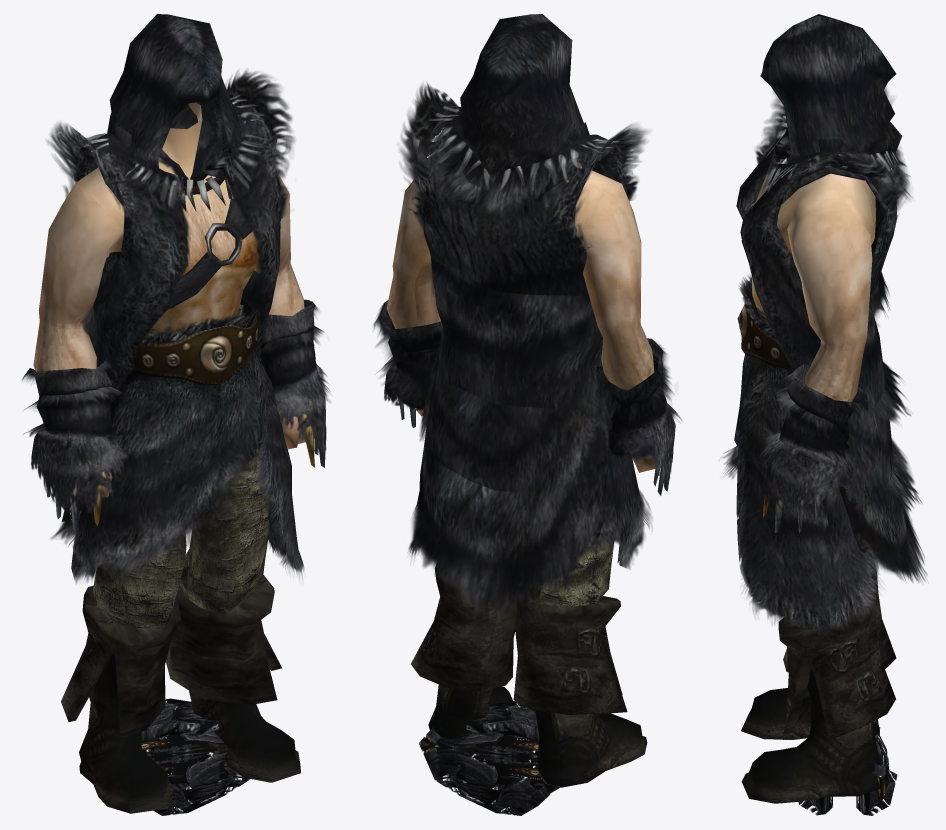
File: FER_BLACKTROLL_ARMOR_01.glb
The picture shows the model from 3 angles, left to right: view 1: azimuth 30°, elevation 25°; view 2: azimuth 150°, elevation 25°; view 3: azimuth 270°, elevation 25°; orthographic projection.
Parts seen in each view (by area): view 1: FER_BLACKTROLL_ARMOR_01; view 2: FER_BLACKTROLL_ARMOR_01; view 3: FER_BLACKTROLL_ARMOR_01.
Boxes of the visible parts, x1,y1,x2,y2 form: FER_BLACKTROLL_ARMOR_01: [22, 14, 331, 815]; FER_BLACKTROLL_ARMOR_01: [373, 14, 682, 815]; FER_BLACKTROLL_ARMOR_01: [722, 14, 927, 815].
Bounding box in the file's own units: 0.7957 × 2 × 0.494.
Materials: 4 (4 with a texture image).
